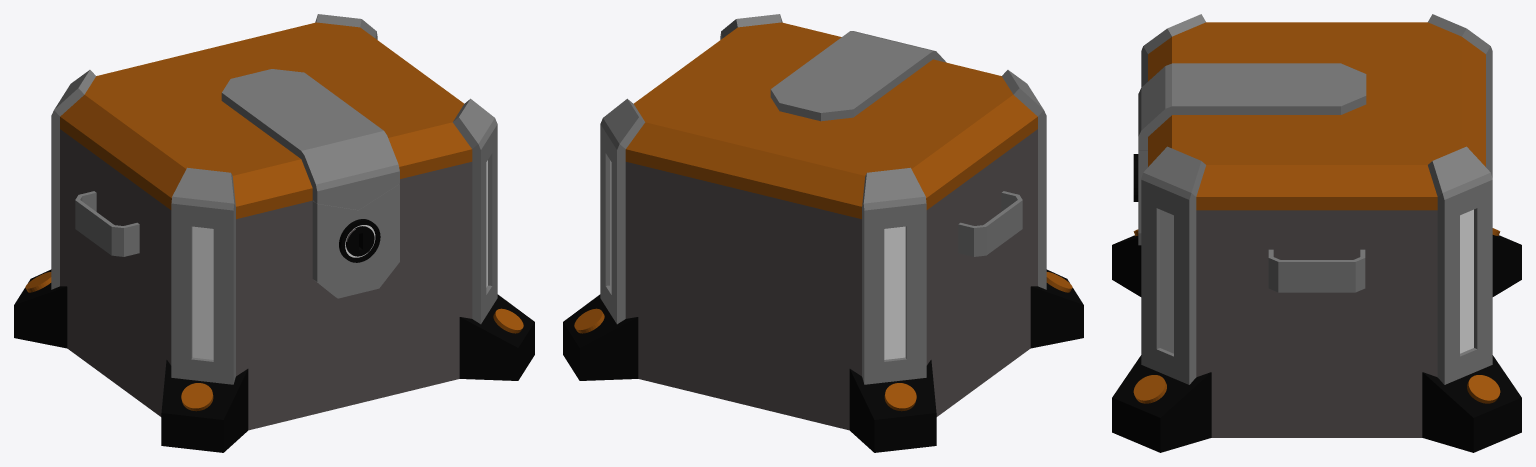
File: LootChestClosed (2).fbx
The picture shows the model from 3 angles, left to right: view 1: azimuth 30°, elevation 25°; view 2: azimuth 150°, elevation 25°; view 3: azimuth 270°, elevation 25°; orthographic projection. The views are drawn at different scales.
Visible parts, largest first — view 1: ChestModel1; view 2: ChestModel1; view 3: ChestModel1.
Part boxes in pixels (<box>): ChestModel1: <box>14,14,534,452</box>; ChestModel1: <box>563,14,1083,452</box>; ChestModel1: <box>1112,14,1521,452</box>.
Bounding box in the file's own units: 94.85 × 62 × 84.85.
